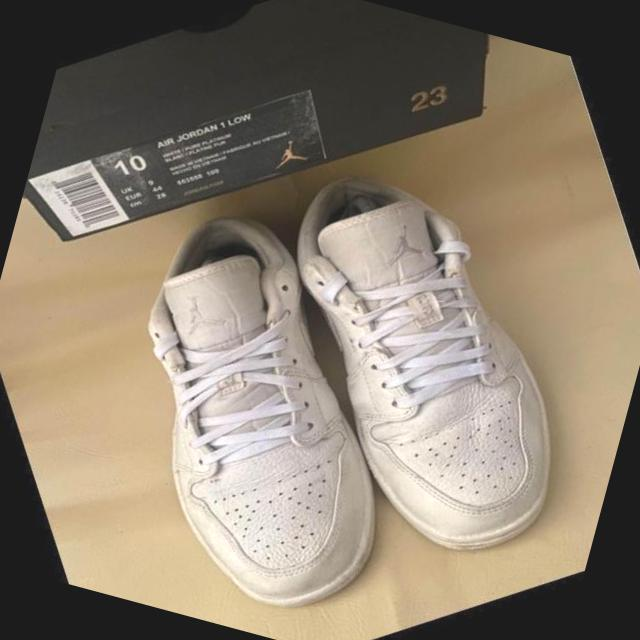nike_fake_airforce: (183, 93, 640, 625), (17, 156, 488, 640)
